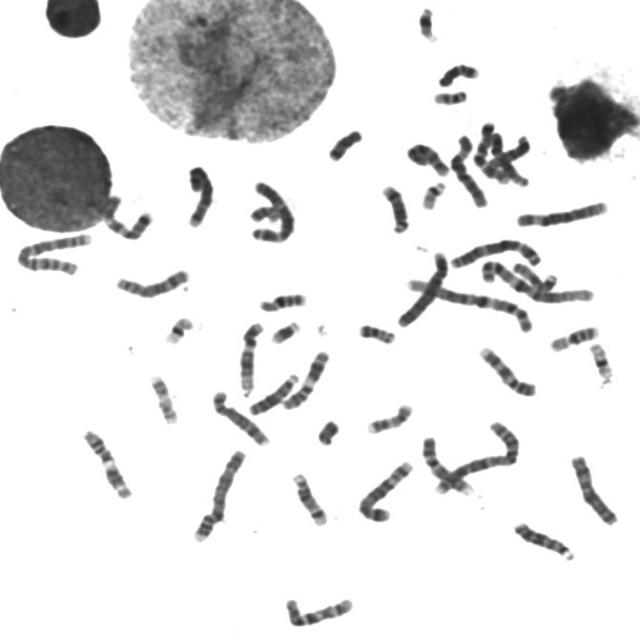A1: (400, 272, 536, 334), (475, 254, 597, 306)
A2: (429, 416, 522, 497), (11, 228, 96, 276)
A3: (245, 174, 298, 245), (446, 234, 544, 270)
B4: (187, 444, 247, 544), (392, 245, 450, 328)
B5: (352, 455, 416, 524), (181, 161, 216, 228)
C10: (278, 591, 356, 629), (407, 143, 452, 177)
C11: (78, 424, 134, 500), (277, 346, 331, 412)
C12: (488, 131, 535, 192), (233, 316, 265, 396)
C6: (446, 130, 490, 210), (510, 196, 610, 230)
C7: (96, 188, 156, 242), (472, 120, 516, 188)
C8: (206, 385, 272, 447), (110, 263, 192, 300)
C9: (417, 432, 476, 496), (474, 341, 539, 399)
D13: (508, 517, 576, 562), (243, 368, 300, 418)
D14: (286, 468, 329, 527), (376, 179, 411, 235)
D15: (507, 256, 560, 294), (483, 135, 531, 171)
E16: (544, 321, 602, 354), (254, 288, 309, 314)
E17: (144, 369, 180, 426), (361, 398, 415, 436)
E18: (322, 124, 366, 162), (433, 58, 481, 89)
F19: (584, 338, 615, 380), (160, 311, 196, 345)
F20: (353, 318, 398, 346), (244, 200, 282, 224)
G21: (412, 2, 440, 43), (266, 315, 302, 346)
G22: (416, 176, 447, 211), (428, 85, 470, 106)
X: (565, 449, 620, 526)
Y: (311, 414, 341, 446)
